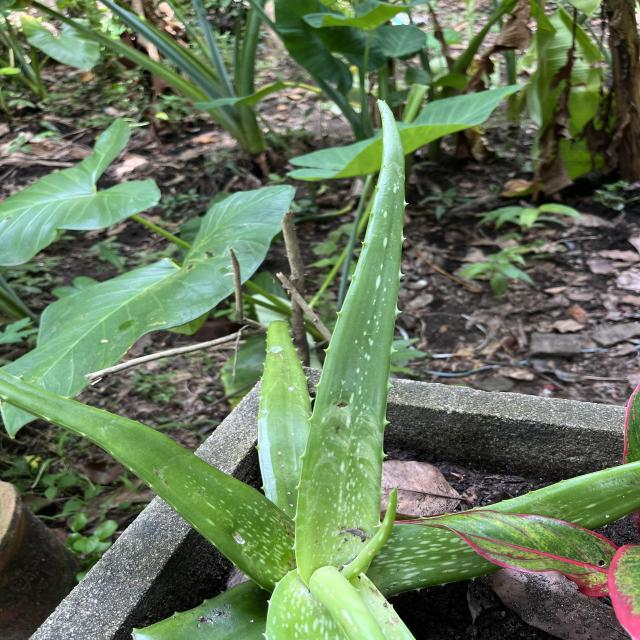Aloe vera: (284, 93, 416, 576)
